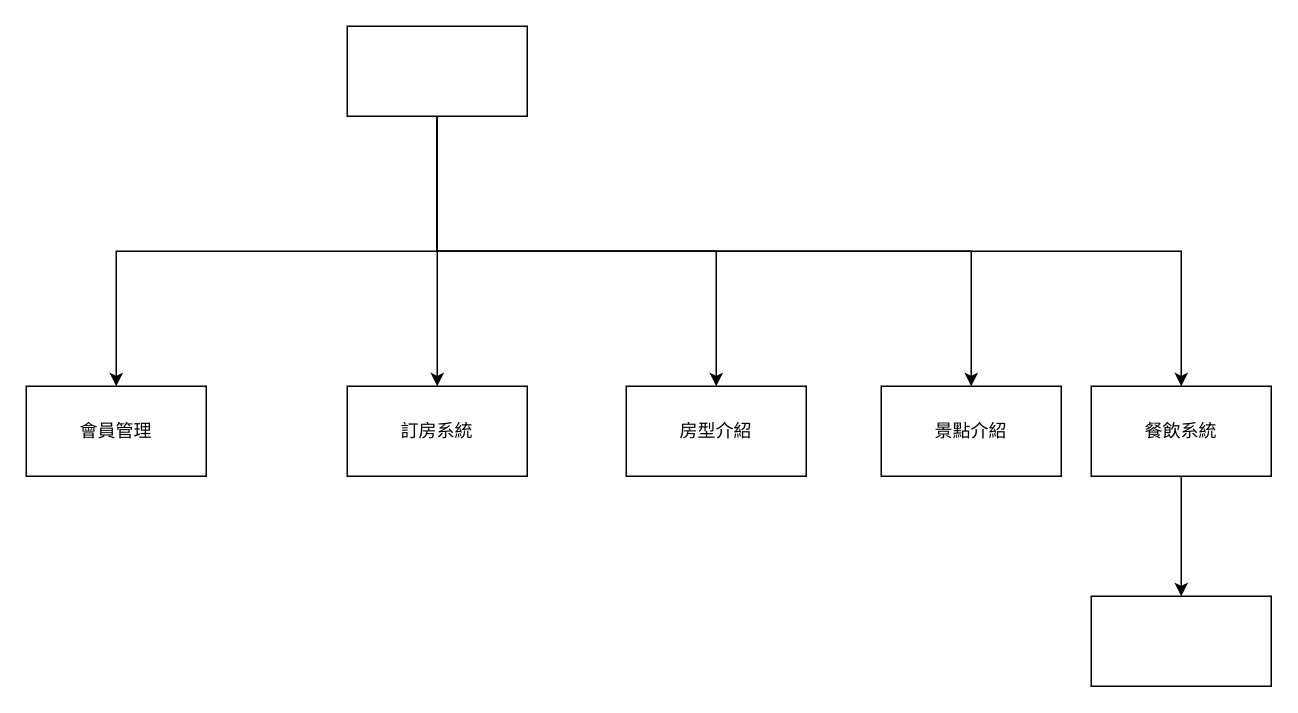
Some shapes in this 1298 by 713 pixel diagram are drawn without their labels. The shapes that lost their labels are listed below. From the top down, each one's centre as x and y in pixels, then its label:
At point (436, 70): "飯店".
At point (1180, 640): "客房服務".
